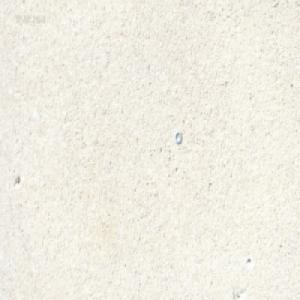Washer: (174, 130, 182, 145)
